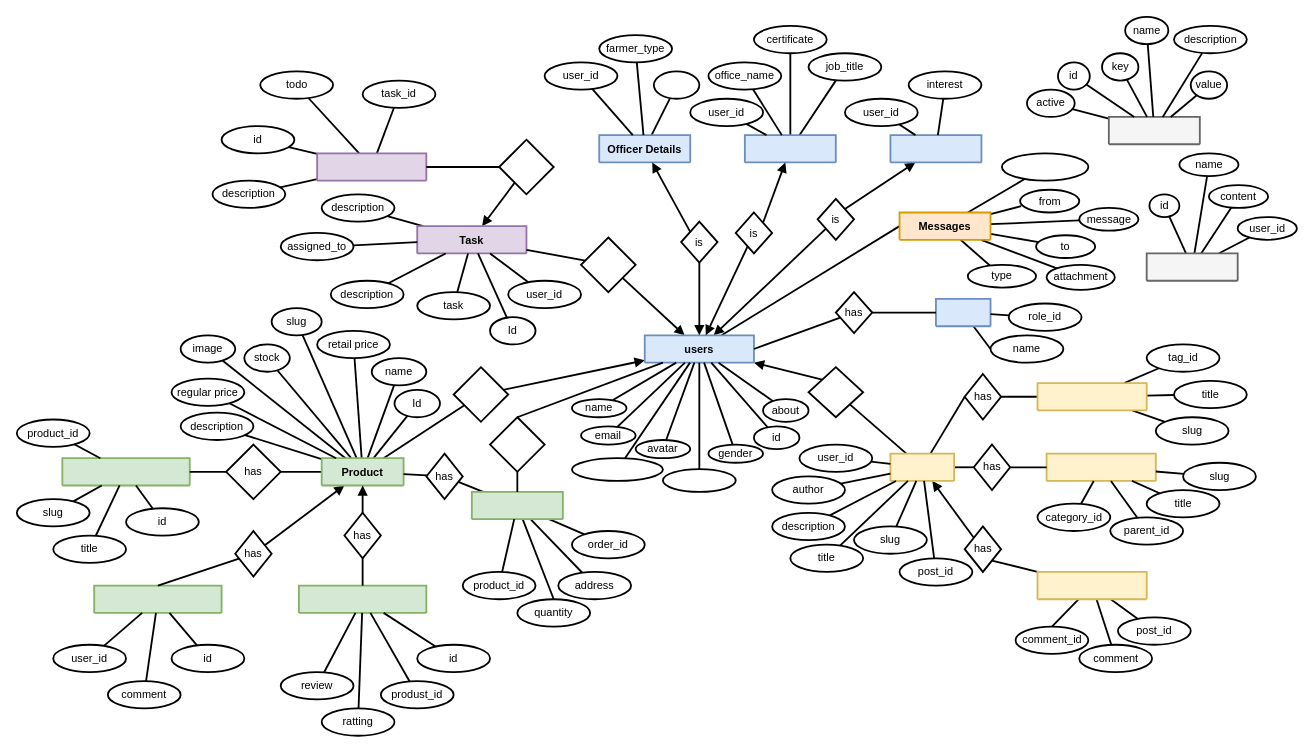
This 1313x752 diagram has some shape labels left out. Each missing label, with the box of its shape:
acres: (652, 70, 700, 99)
Assign: (580, 236, 636, 293)
can add: (452, 366, 509, 422)
can order product: (489, 416, 545, 472)
can post: (807, 366, 864, 418)
Farmer Details: (743, 134, 836, 163)
have: (498, 138, 554, 195)
message_id: (1001, 152, 1089, 181)
mobile_number: (571, 457, 663, 481)
Notifications: (1145, 252, 1238, 281)
Orders: (470, 490, 563, 520)
postal_code: (662, 468, 736, 492)
Posts: (889, 452, 955, 481)
Posts Category: (1045, 452, 1156, 481)
Posts Comment: (1036, 571, 1147, 600)
Posts Tag: (1036, 382, 1147, 411)
Product Category: (61, 457, 190, 486)
Product Comment: (93, 584, 222, 613)
Product Review: (298, 584, 427, 613)
Retailer details: (889, 134, 982, 163)
Role: (935, 298, 991, 327)
Settings: (1107, 116, 1200, 145)
Todos: (316, 152, 427, 181)
